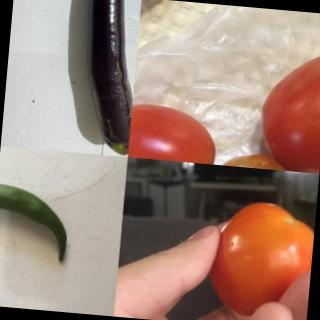Tomat: (184, 167, 319, 320), (218, 41, 320, 173), (128, 82, 226, 165)
